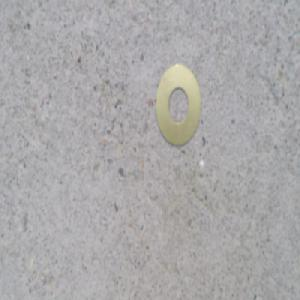Washer: (155, 63, 202, 146)
